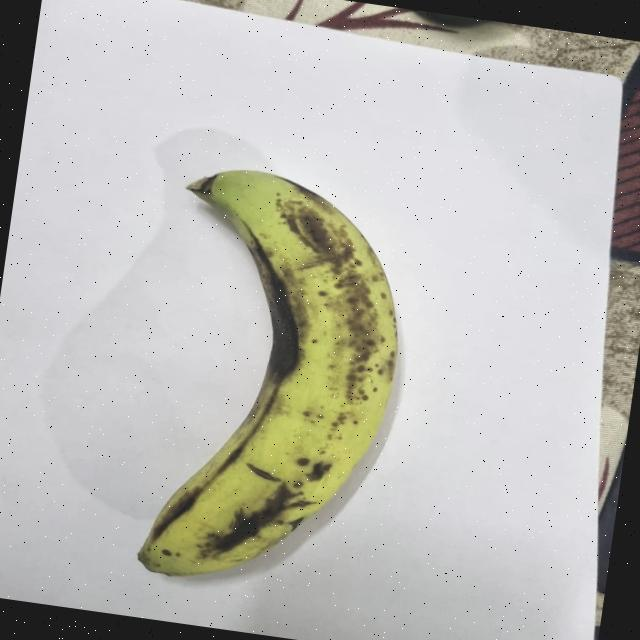Overripe: (79, 135, 444, 640)
